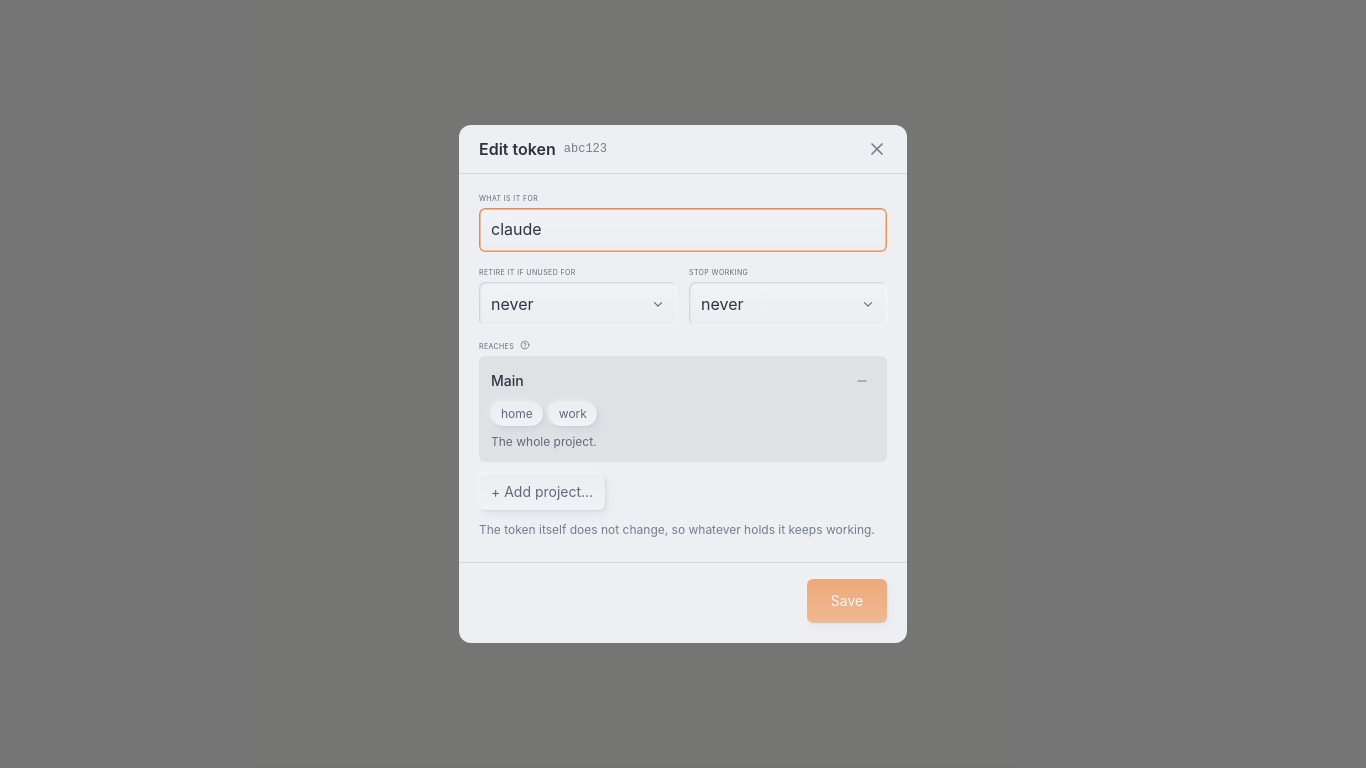
TokenEditDialog › stays open and shows the refusal
Expected: the button "work" is shown, [549,402,597,426]
Select "a day" in the dropdown labelled "Retire it if unused for" at coordinates (578, 304), box [479,282,677,326]
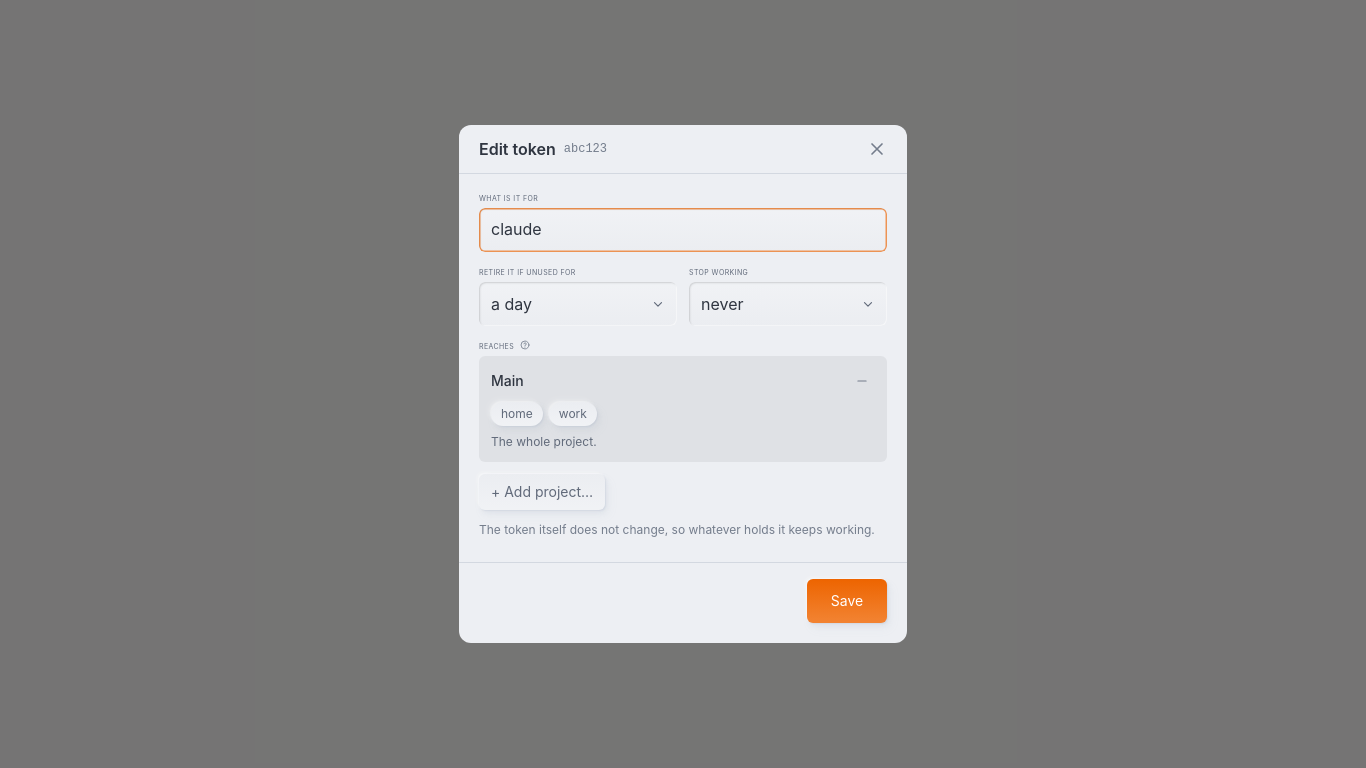
Click the button "Save".
click(847, 601)  # box [807,579,887,623]
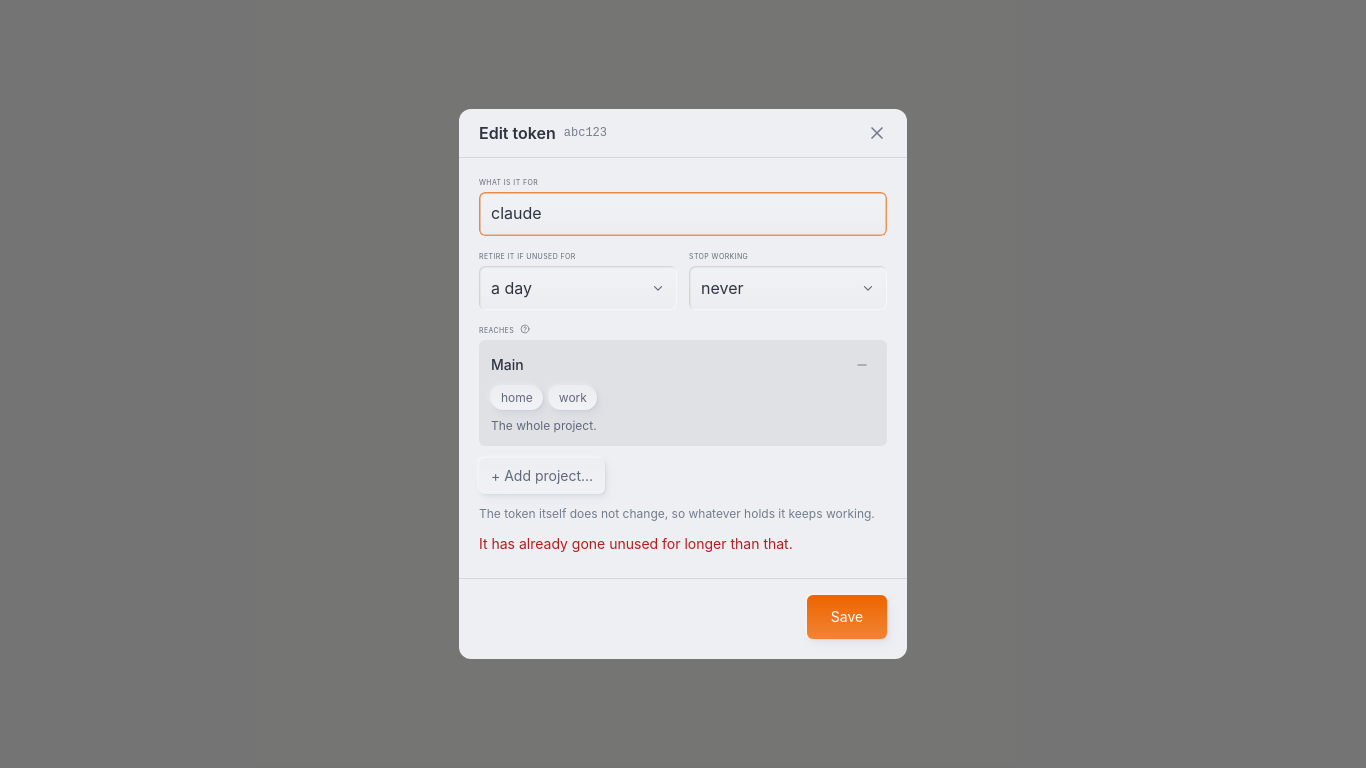
Now the text "It has already gone unused for longer than that." is shown, box [479,535,793,552]
